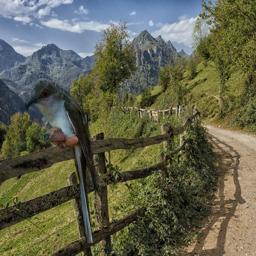Cuckoo: (24, 80, 98, 243)
